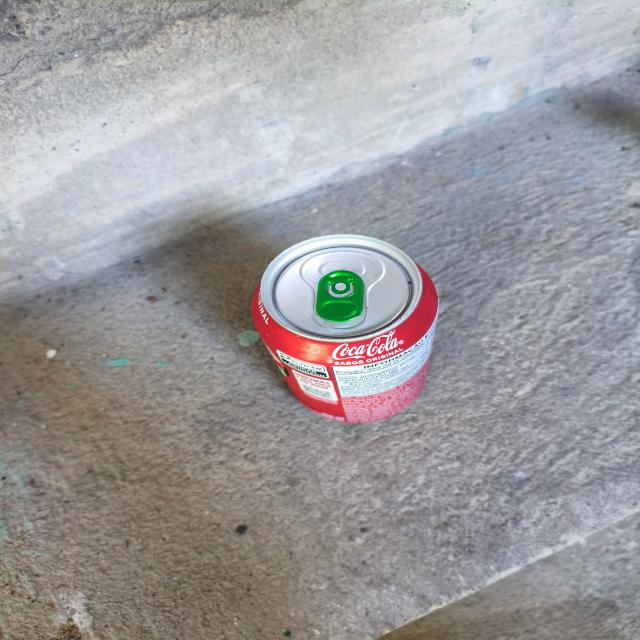Coca Cola: (251, 235, 436, 422)
